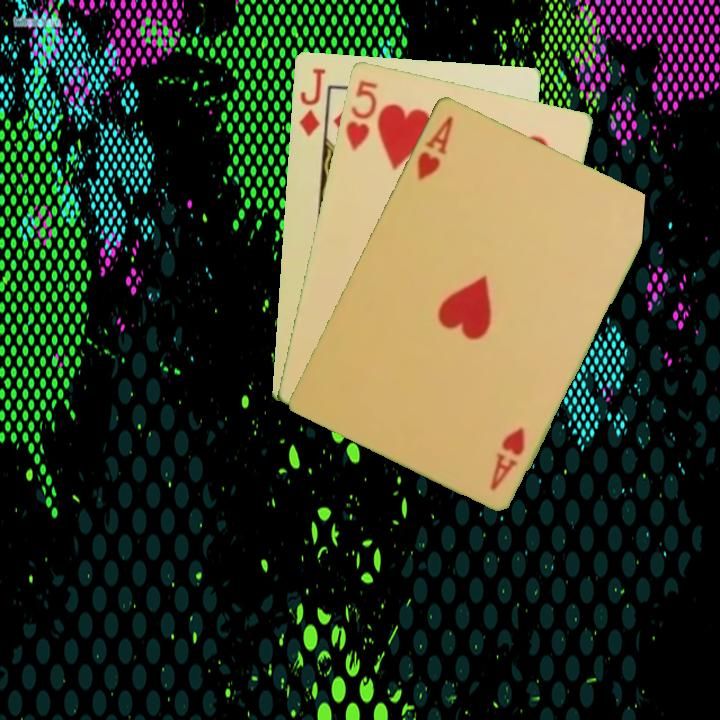5h: (342, 76, 380, 153)
Ah: (413, 111, 456, 183), (486, 423, 528, 493)
Jd: (295, 64, 328, 139)
